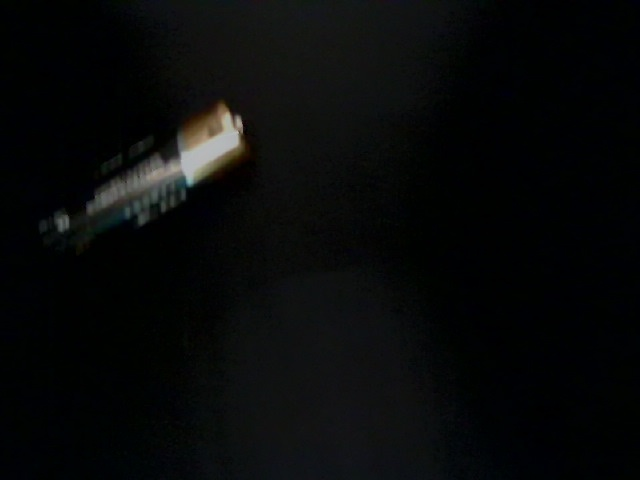QTLJ: (518, 226, 640, 461)
